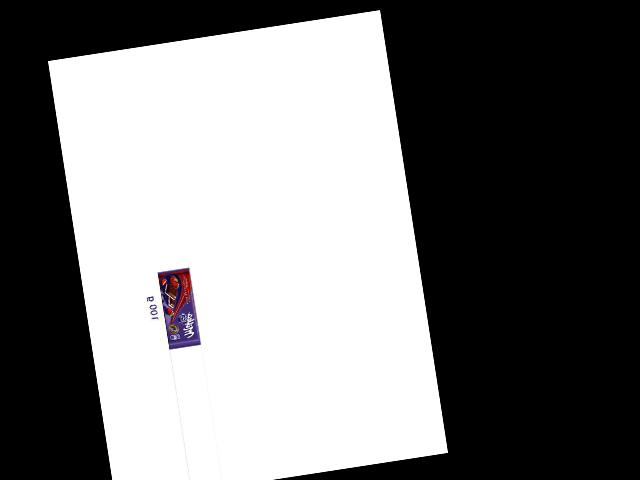chocolate: (153, 267, 201, 349)
